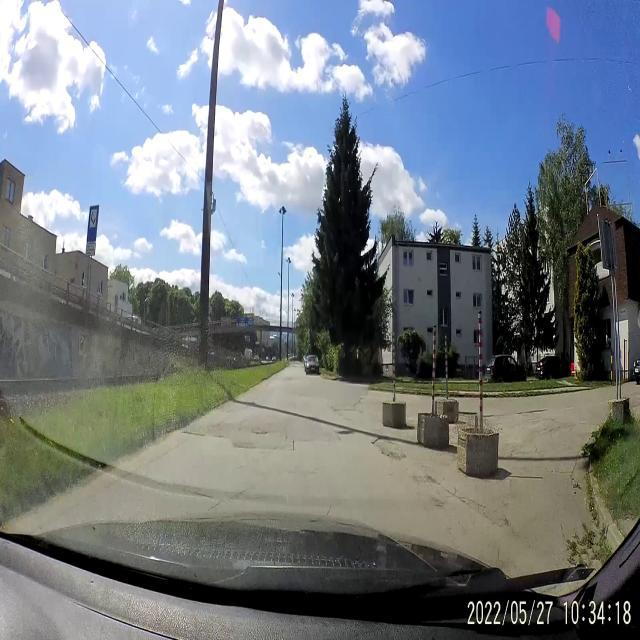Pothole: (369, 434, 407, 462), (182, 426, 224, 439), (230, 440, 257, 452), (250, 424, 270, 438)
